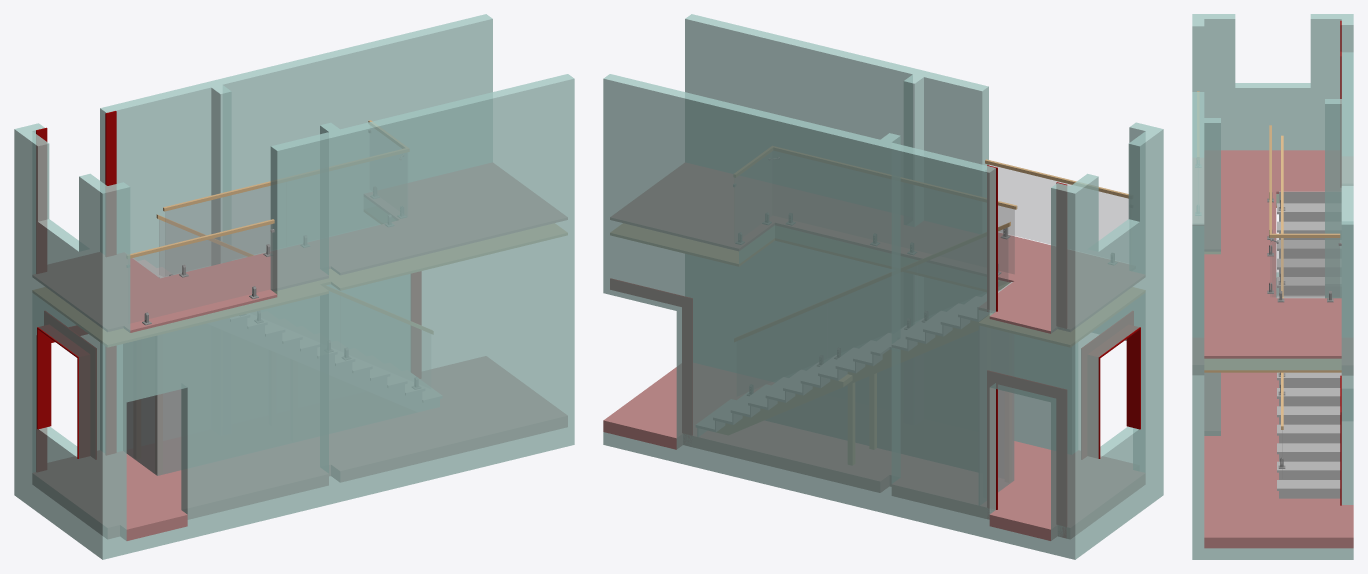
The model's file is nhXXa.glb.
3 views of the same model, side by side, from view 1: azimuth 30°, elevation 25°; view 2: azimuth 150°, elevation 25°; view 3: azimuth 270°, elevation 25° (orthographic). The views are drawn at different scales.
Visible parts, largest first — view 1: Model; view 2: Model; view 3: Model.
Boxes of the visible parts, x1,y1,x2,y2 form: Model: (14,14,574,559); Model: (603,14,1163,559); Model: (1192,14,1353,559).
Size of the model in its own units: 7.7 by 5.7 by 2.49.
